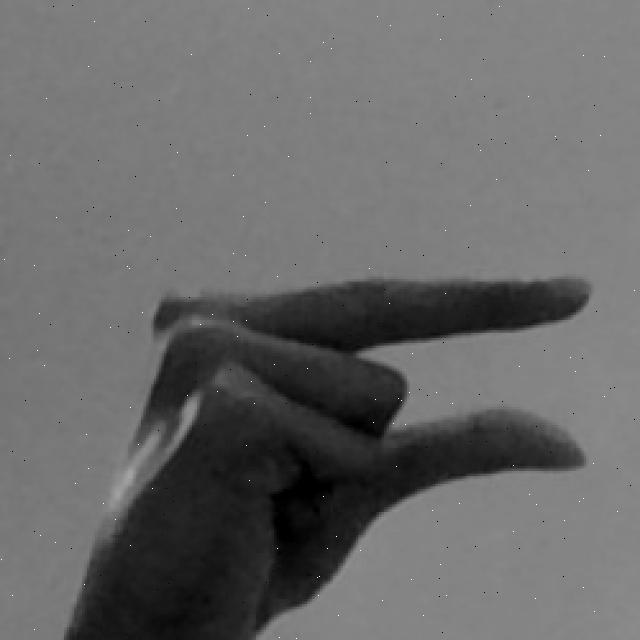G: (58, 266, 598, 640)
